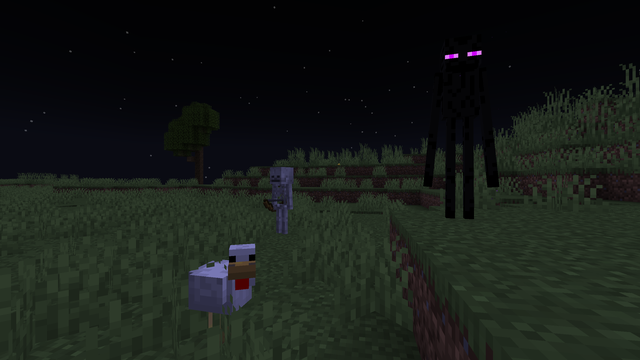endermens: (434, 26, 487, 220)
squelettes: (268, 167, 293, 235)
